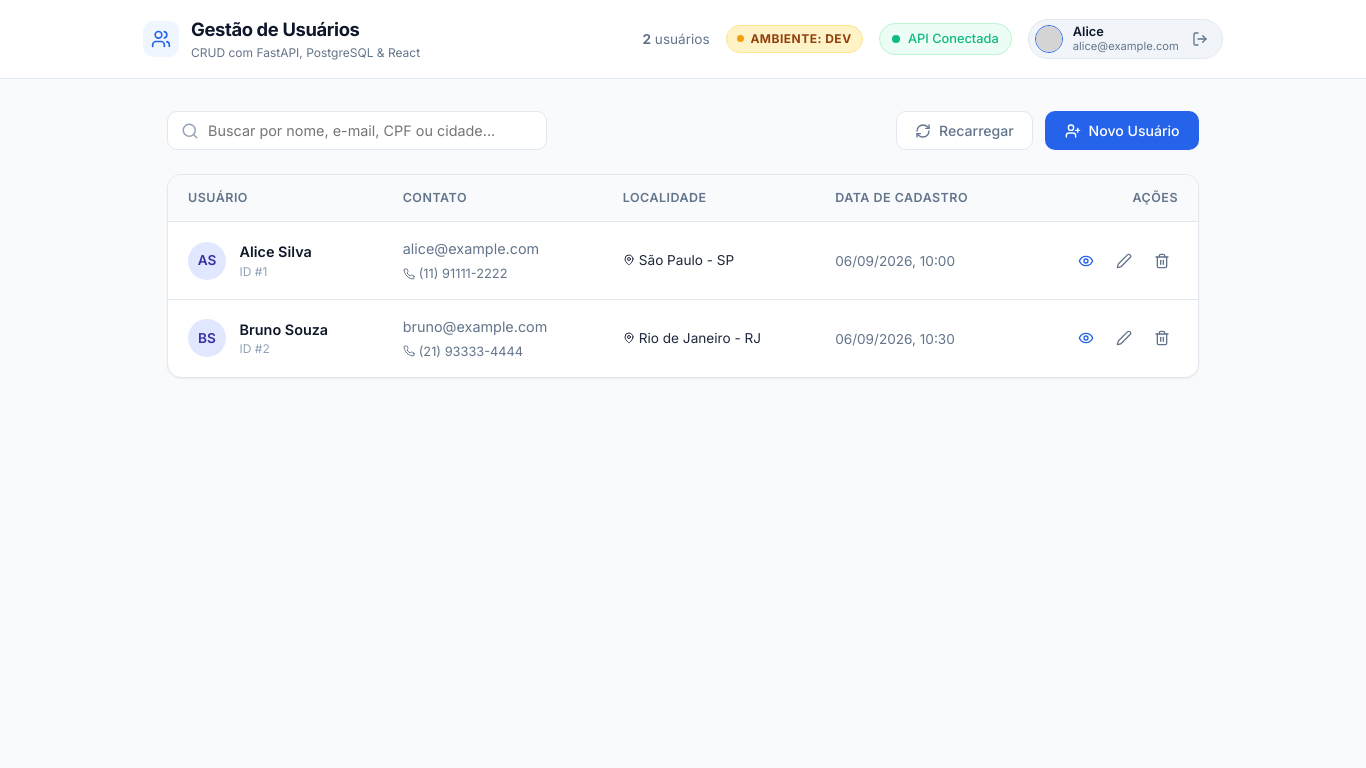
Test: App Integration Tests (CRUD Flow & Auth Guard) › fluxo de visualização de detalhes do usuário
The image size is (1366, 768).
Expected: the text "Alice Silva" is shown, 240,241 -> 312,262
Click the button named "ver detalhes" in the row of "Alice Silva": (1086, 261) 1070,244 -> 1102,277
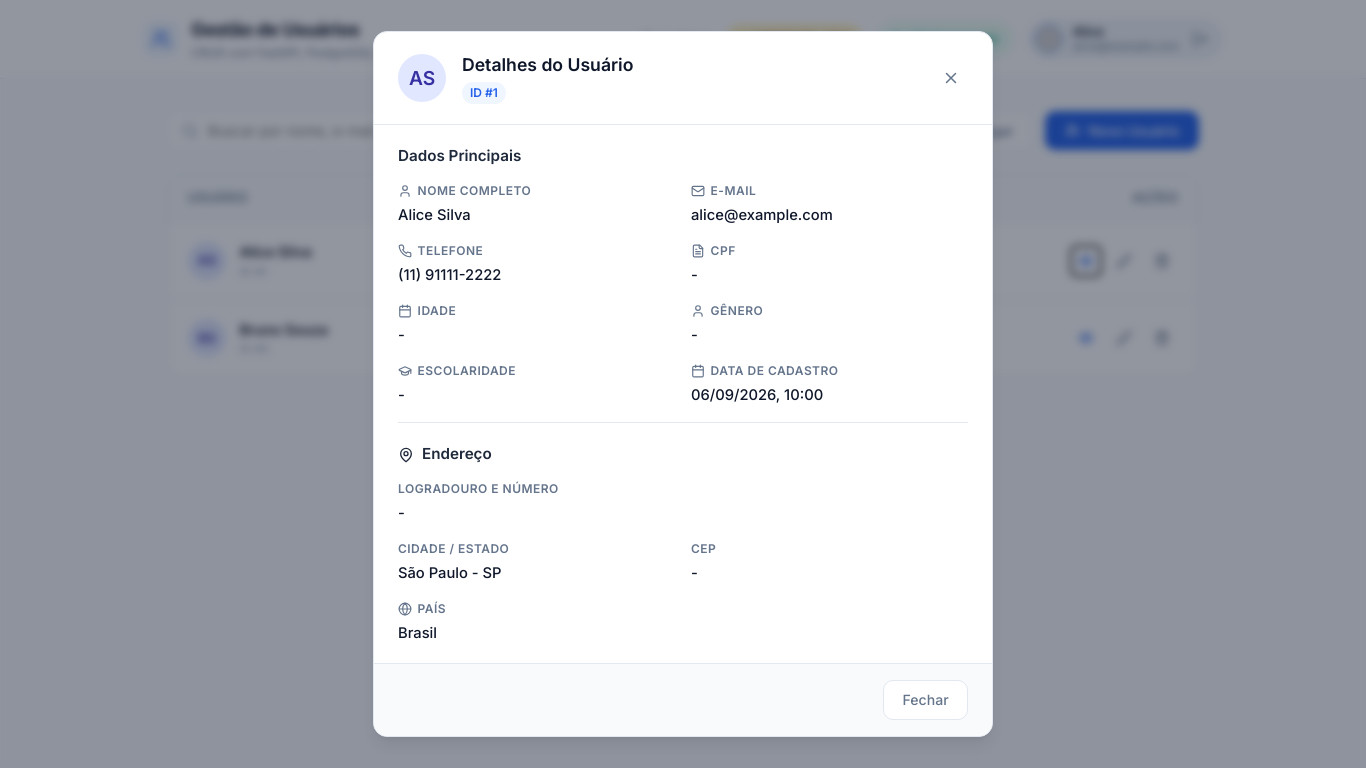
Expected: the heading "Detalhes do Usuário" is shown, 462,52 -> 633,78
Click the button named "fechar": (951, 78) 934,61 -> 968,96
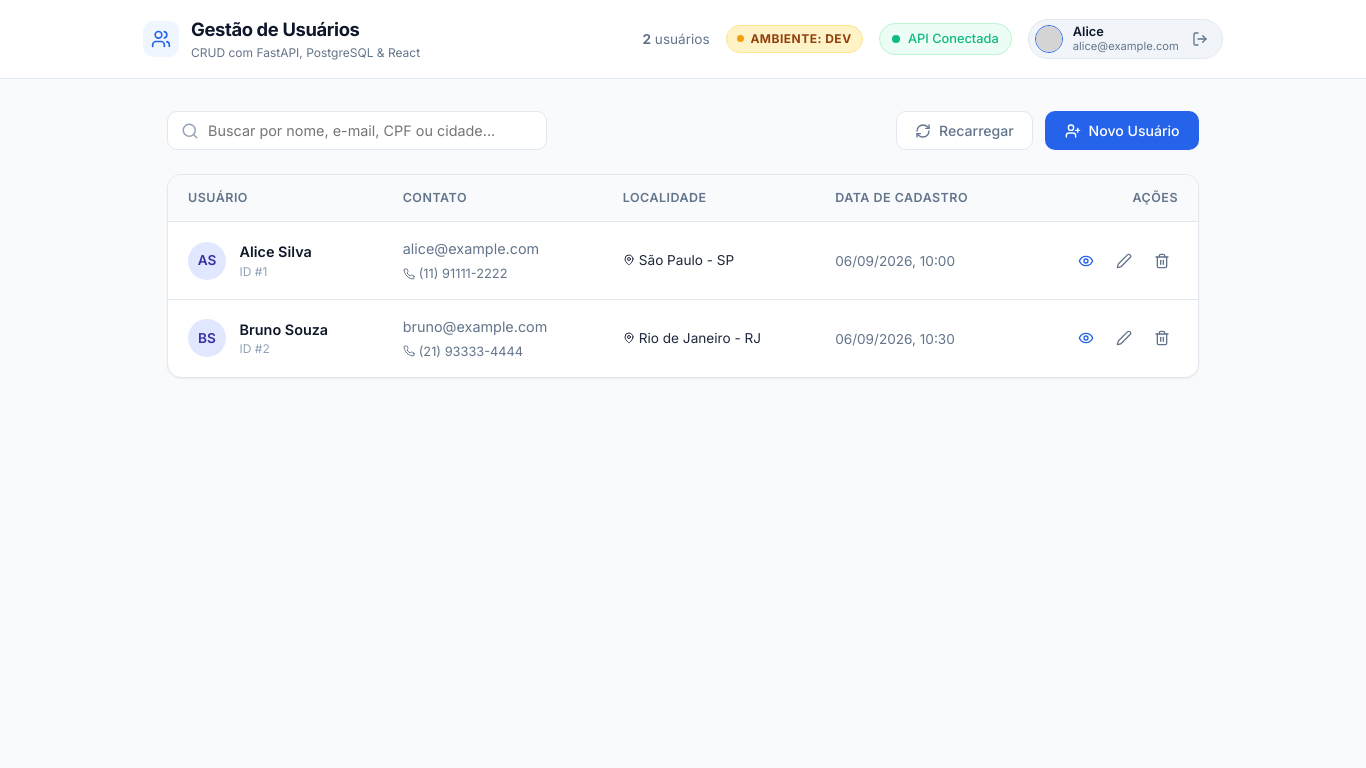
Expected: the heading "Detalhes do Usuário" is gone
